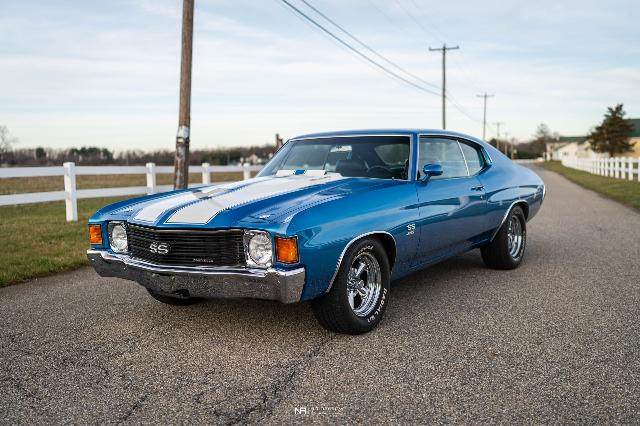chevelle-1972: (87, 129, 546, 334)
